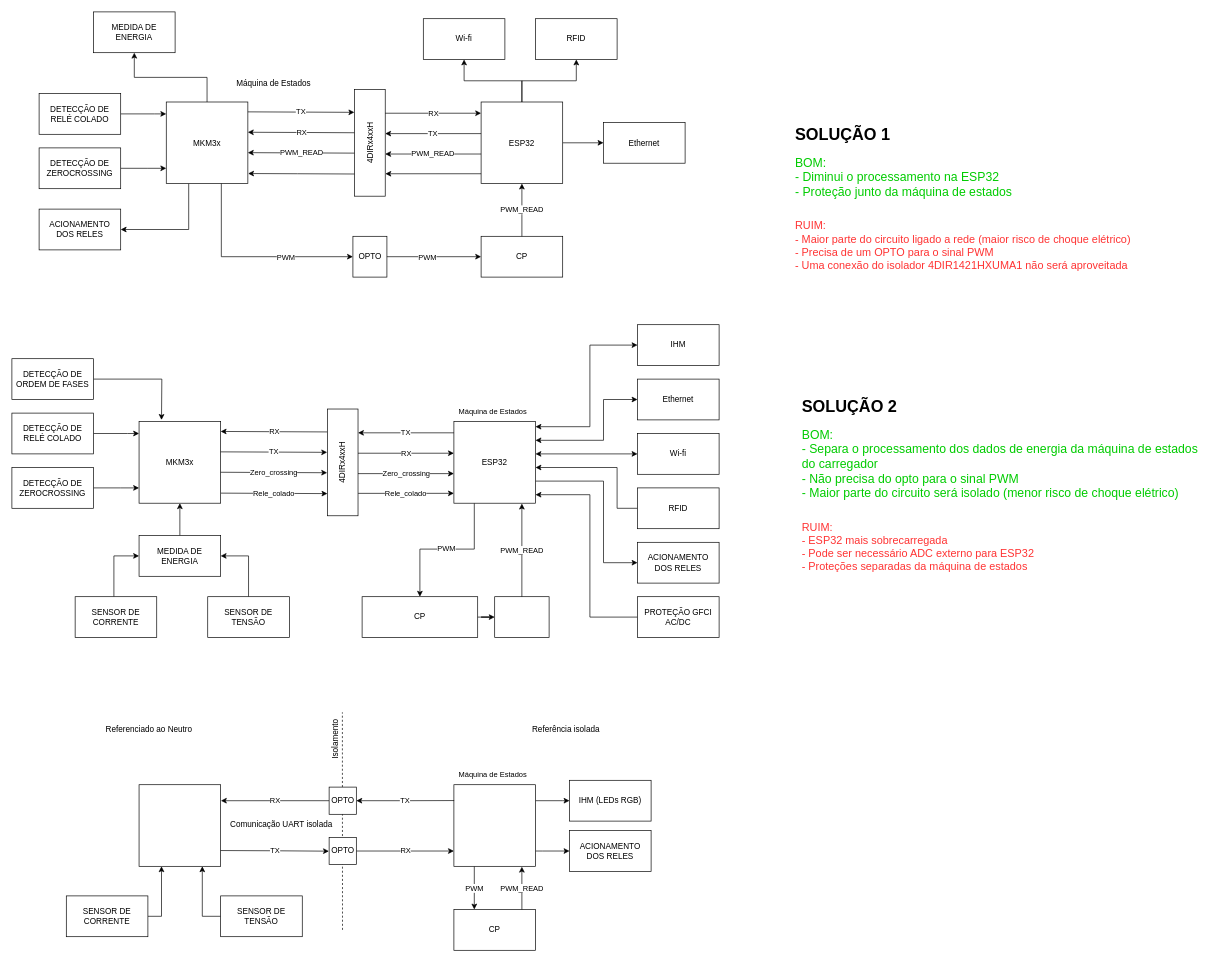
This 1223x962 diagram has some shape labels left out. The shapes that lost their labels are listed below. From the top down, each one's centre as x and y in pixels, then its label:
At (521,617): "ADC EXTERNO".
At (179,825): "STM32F373".
At (494,825): "STM32F103".
